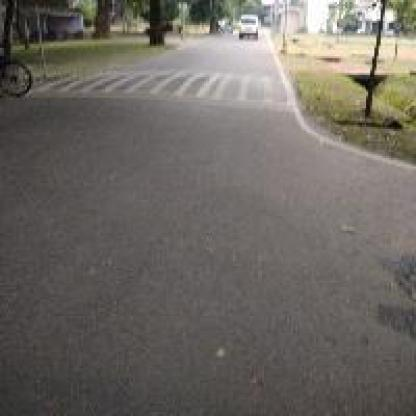Speed Bump: (46, 71, 295, 112)
